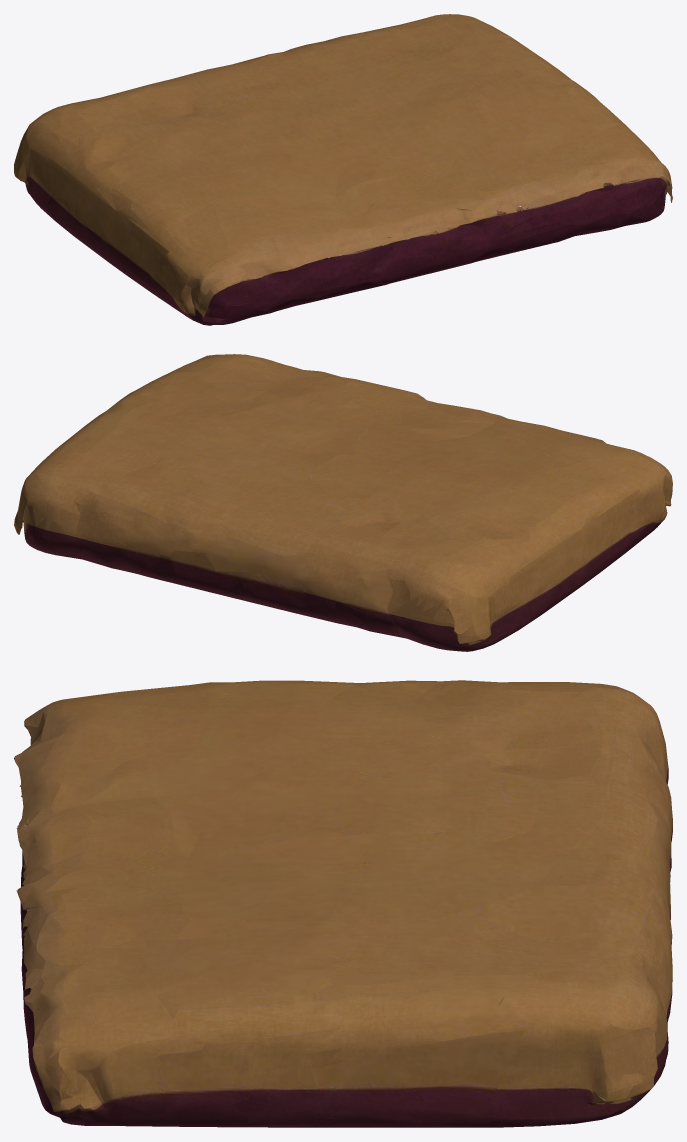
Rendered from w3hseat.glb.
3 views of the same model, one above another, from view 1: azimuth 30°, elevation 25°; view 2: azimuth 150°, elevation 25°; view 3: azimuth 270°, elevation 25° (orthographic). The views are drawn at different scales.
Parts seen in each view (by area): view 1: output_unwrapped; view 2: output_unwrapped; view 3: output_unwrapped.
Part boxes in pixels (left/top/right/bottom): output_unwrapped: left=14, top=14, right=672, bottom=325; output_unwrapped: left=14, top=354, right=672, bottom=651; output_unwrapped: left=14, top=680, right=672, bottom=1127.
Size of the model in its own units: 1 by 0.1635 by 0.7648.
Materials: 1 (1 with a texture image).
